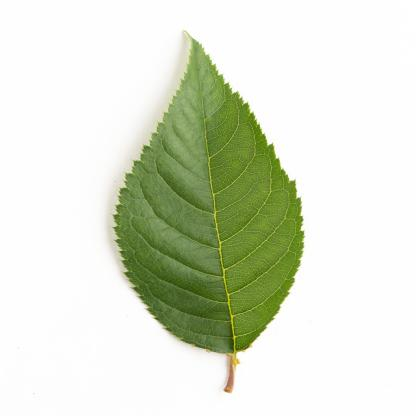Cherry leaf: (110, 22, 324, 363)
